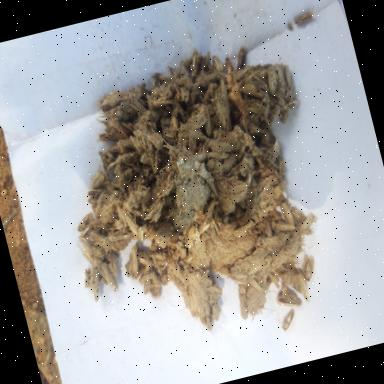pbw: (186, 270, 214, 317), (117, 201, 141, 242), (119, 246, 145, 282), (96, 257, 120, 293), (232, 44, 254, 80), (94, 88, 124, 114), (139, 198, 169, 224), (196, 107, 217, 144), (273, 285, 302, 310), (76, 238, 98, 270), (264, 134, 286, 166), (242, 82, 268, 108), (218, 58, 238, 91), (298, 252, 318, 284), (96, 146, 118, 175), (86, 166, 110, 192), (296, 210, 320, 236), (262, 66, 281, 98), (278, 196, 298, 226), (294, 270, 312, 302), (264, 175, 288, 198), (134, 250, 156, 275), (292, 8, 318, 28), (277, 308, 297, 334), (199, 196, 220, 220), (72, 212, 96, 232), (270, 217, 294, 236), (186, 52, 204, 77), (147, 94, 174, 110), (282, 65, 296, 94), (209, 55, 226, 78), (95, 130, 118, 146), (118, 149, 138, 163), (138, 151, 152, 165), (180, 64, 192, 80)
